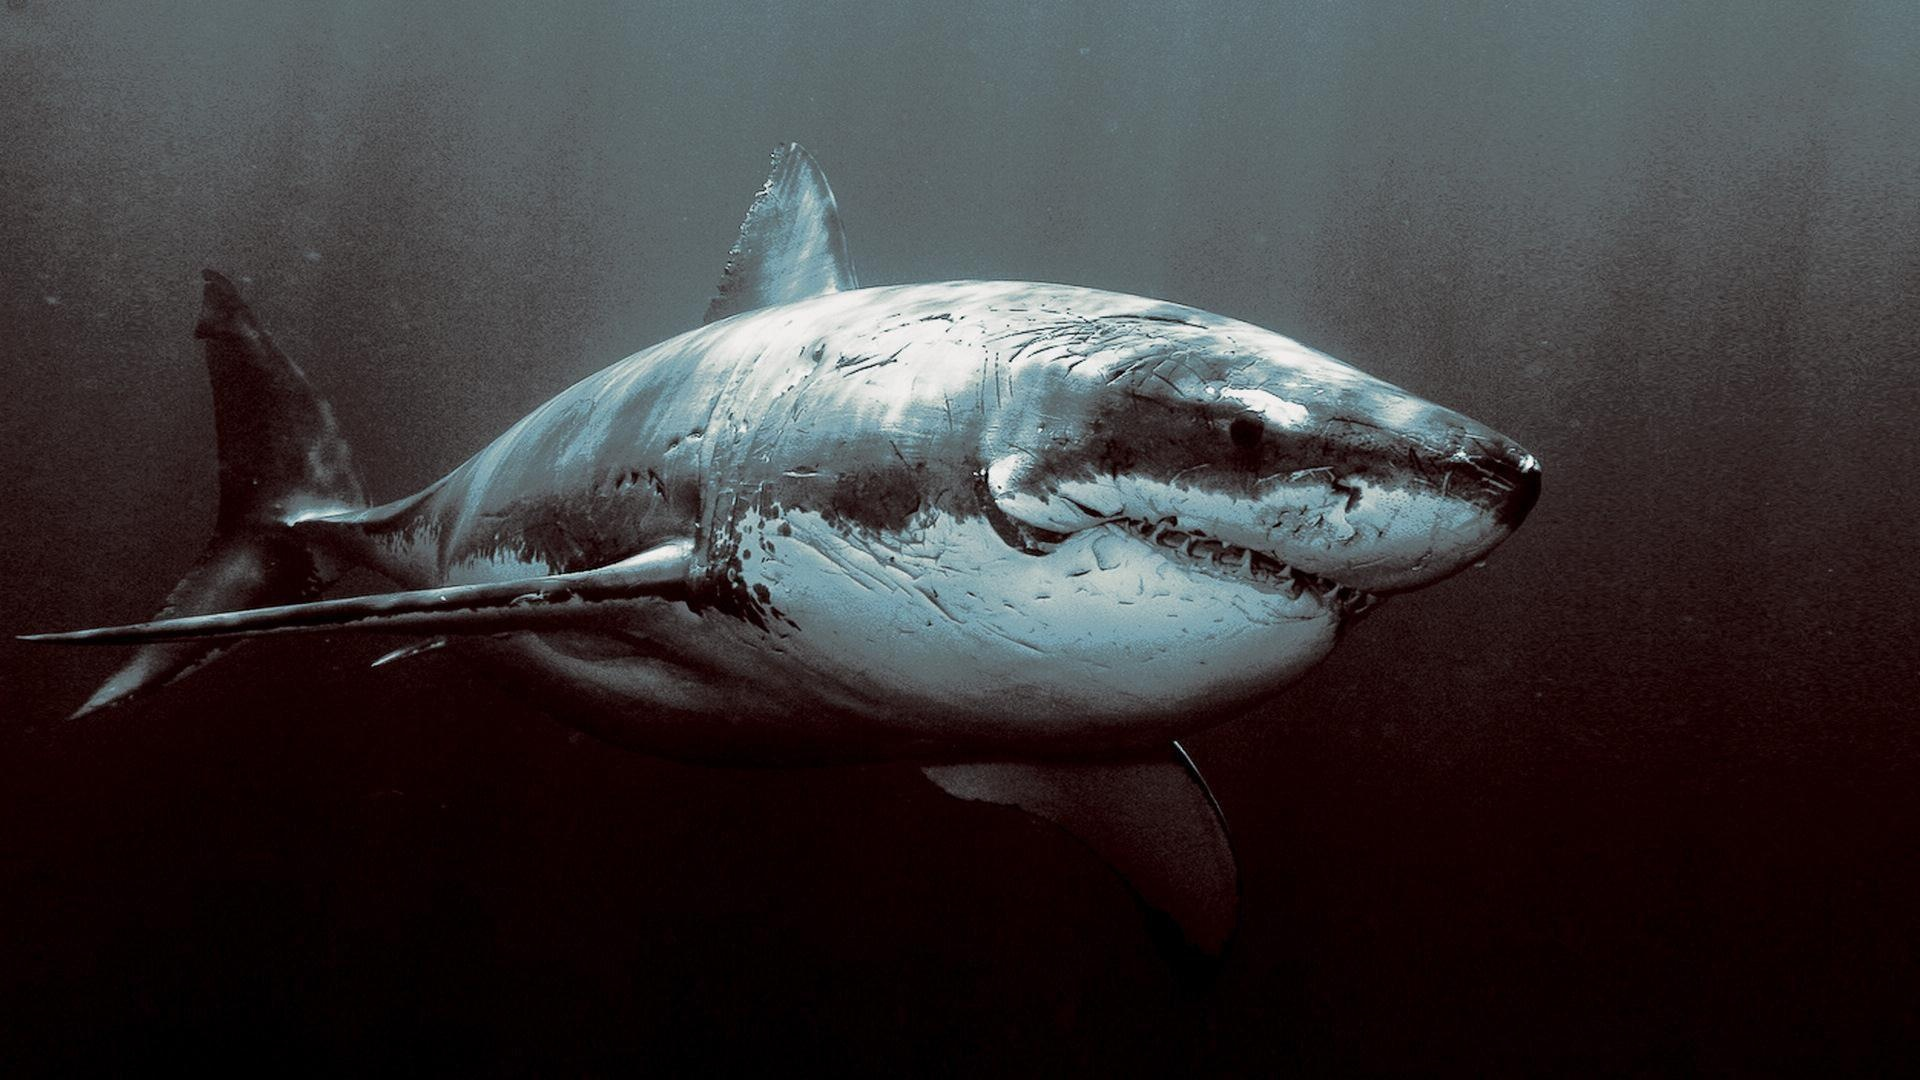fish: (26, 138, 1571, 771)
